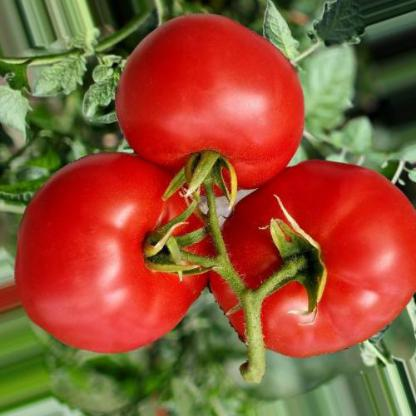tomato: (0, 144, 228, 360), (198, 153, 414, 359), (104, 8, 314, 204)
